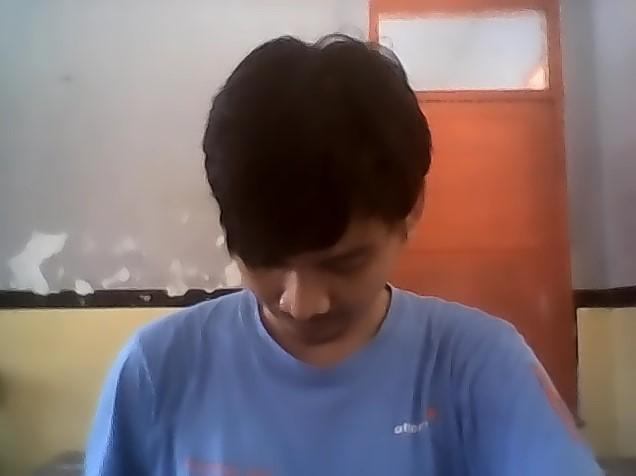good: (74, 14, 619, 476)
